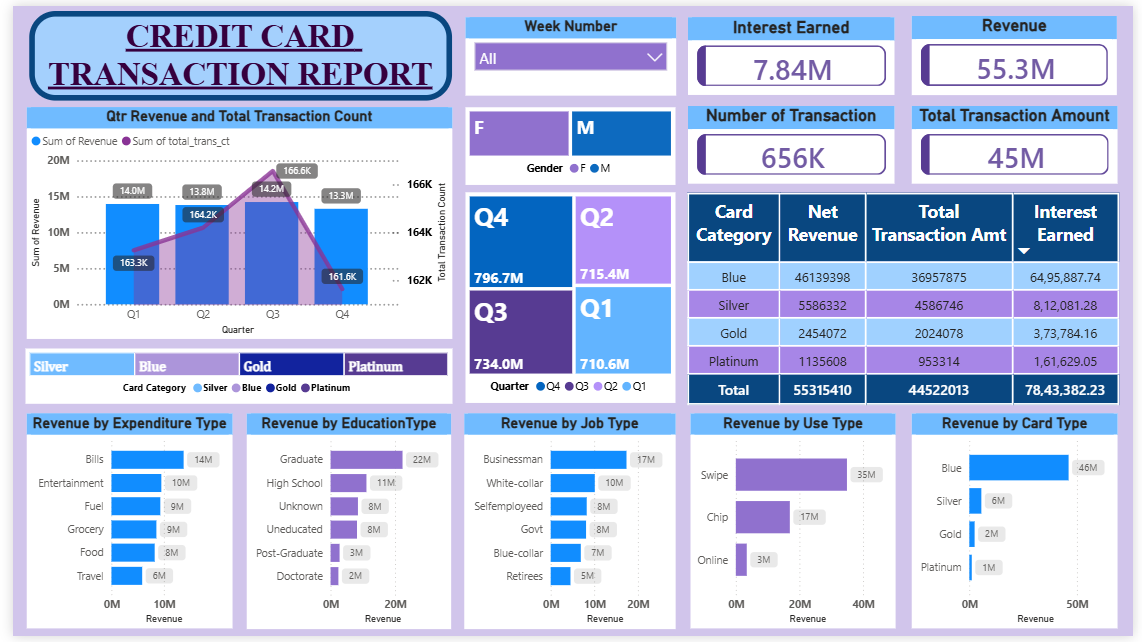

What the dashboard file says about the page in this screenshot:
{"tool":"powerbi","page":{"name":"Credit Card Transaction","canvas":[1280,720],"ordinal":0},"visuals":[{"type":"textbox","box":[18.1,5.6,483.3,102.8],"z":0},{"type":"lineStackedColumnComboChart","title":"Qtr Revenue and  Total Transaction Count","fields":{"Category":["public creditcard_detail.qtr"],"Y":["Sum(public creditcard_detail.Revenue)"],"Y2":["Sum(public creditcard_detail.total_trans_ct)"]},"box":[15,115,486.2,265],"z":1000},{"type":"barChart","title":"Revenue by Expenditure Type","fields":{"Y":["Sum(public creditcard_detail.Revenue)"],"Category":["public creditcard_detail.exp_type"]},"box":[15.3,465.3,235.3,245.9],"z":2000},{"type":"barChart","title":"Revenue by EducationType","fields":{"Y":["Sum(public creditcard_detail.Revenue)"],"Category":["public customer_detail.education_level"]},"box":[267.5,465,233.8,246.2],"z":3000},{"type":"barChart","title":"Revenue by Job Type","fields":{"Y":["Sum(public creditcard_detail.Revenue)"],"Category":["public customer_detail.customer_job"]},"box":[516.2,465,241.2,246.2],"z":4000},{"type":"barChart","title":"Revenue by Card Type","fields":{"Y":["Sum(public creditcard_detail.Revenue)"],"Category":["public creditcard_detail.card_category"]},"box":[1026.5,465.3,235.3,245.9],"z":5000},{"type":"barChart","title":"Revenue by Use Type","fields":{"Y":["Sum(public creditcard_detail.Revenue)"],"Category":["public creditcard_detail.use_chip"]},"box":[773.6,465.3,234.7,245.8],"z":6000},{"type":"tableEx","fields":{"Values":["public creditcard_detail.card_category","Sum(public creditcard_detail.Revenue)","Sum(public creditcard_detail.total_trans_amt)","Sum(public creditcard_detail.interest_earned)"]},"box":[764.3,208.6,515.7,256.4],"z":7000},{"type":"cardVisual","title":"Revenue","fields":{"Data":["Sum(public creditcard_detail.Revenue)"]},"box":[1026.7,11.3,234.7,90],"z":8000},{"type":"cardVisual","title":"Interest Earned","fields":{"Data":["Sum(public creditcard_detail.interest_earned)"]},"box":[771.3,12.7,236,88.7],"z":9000},{"type":"cardVisual","title":"Total Transaction Amount","fields":{"Data":["Sum(public creditcard_detail.total_trans_amt)"]},"box":[1026.7,114.7,235.3,88.7],"z":10000},{"type":"cardVisual","title":"Number of Transaction","fields":{"Data":["Sum(public creditcard_detail.total_trans_ct)"]},"box":[772,114.7,236,88.7],"z":11000},{"type":"slicer","title":"Week Number","fields":{"Values":["public creditcard_detail.week_number"]},"box":[516.9,12.3,240.8,89.2],"z":12000},{"type":"treemap","fields":{"Group":["public creditcard_detail.qtr"],"Values":["Avg(public creditcard_detail.client_num)"]},"box":[517.6,213.5,240,240.6],"z":13000},{"type":"treemap","fields":{"Group":["public customer_detail.gender"],"Values":["Avg(public creditcard_detail.client_num)"]},"box":[517.7,115.4,240,88.5],"z":14000},{"type":"treemap","fields":{"Group":["public creditcard_detail.card_category"],"Values":["Avg(public creditcard_detail.client_num)"]},"box":[14.1,391.2,487.6,62.9],"z":15000}]}

Visuals, with their boxes in screenshot pixels (x1, y1, x2, y2), scaled from the page's 1280x720 canvas onto the 1142x642 screenshot:
textbox: (left=16, top=5, right=447, bottom=97)
"Qtr Revenue and  Total Transaction Count" lineStackedColumnComboChart: (left=13, top=103, right=447, bottom=339)
"Revenue by Expenditure Type" barChart: (left=14, top=415, right=224, bottom=634)
"Revenue by EducationType" barChart: (left=239, top=415, right=447, bottom=634)
"Revenue by Job Type" barChart: (left=461, top=415, right=676, bottom=634)
"Revenue by Card Type" barChart: (left=916, top=415, right=1126, bottom=634)
"Revenue by Use Type" barChart: (left=690, top=415, right=900, bottom=634)
tableEx - public creditcard_detail.card_category x Sum(public creditcard_detail.Revenue): (left=682, top=186, right=1141, bottom=415)
"Revenue" cardVisual: (left=916, top=10, right=1125, bottom=90)
"Interest Earned" cardVisual: (left=688, top=11, right=899, bottom=90)
"Total Transaction Amount" cardVisual: (left=916, top=102, right=1126, bottom=181)
"Number of Transaction" cardVisual: (left=689, top=102, right=899, bottom=181)
"Week Number" slicer: (left=461, top=11, right=676, bottom=91)
treemap - public creditcard_detail.qtr x Avg(public creditcard_detail.client_num): (left=462, top=190, right=676, bottom=405)
treemap - public customer_detail.gender x Avg(public creditcard_detail.client_num): (left=462, top=103, right=676, bottom=182)
treemap - public creditcard_detail.card_category x Avg(public creditcard_detail.client_num): (left=13, top=349, right=448, bottom=405)
